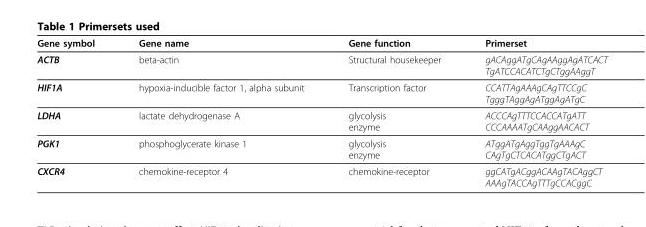table: (36, 36, 606, 187)
table column: (115, 36, 325, 187), (462, 36, 606, 187), (325, 36, 462, 187), (36, 36, 115, 187)
table column header: (36, 36, 606, 50)
table row: (36, 50, 606, 78), (36, 78, 606, 106), (36, 106, 606, 134), (36, 134, 606, 162), (36, 162, 606, 187), (36, 36, 606, 50)
